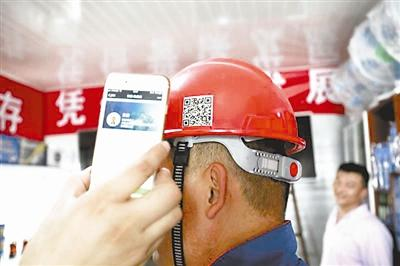helmet: (161, 57, 307, 160)
